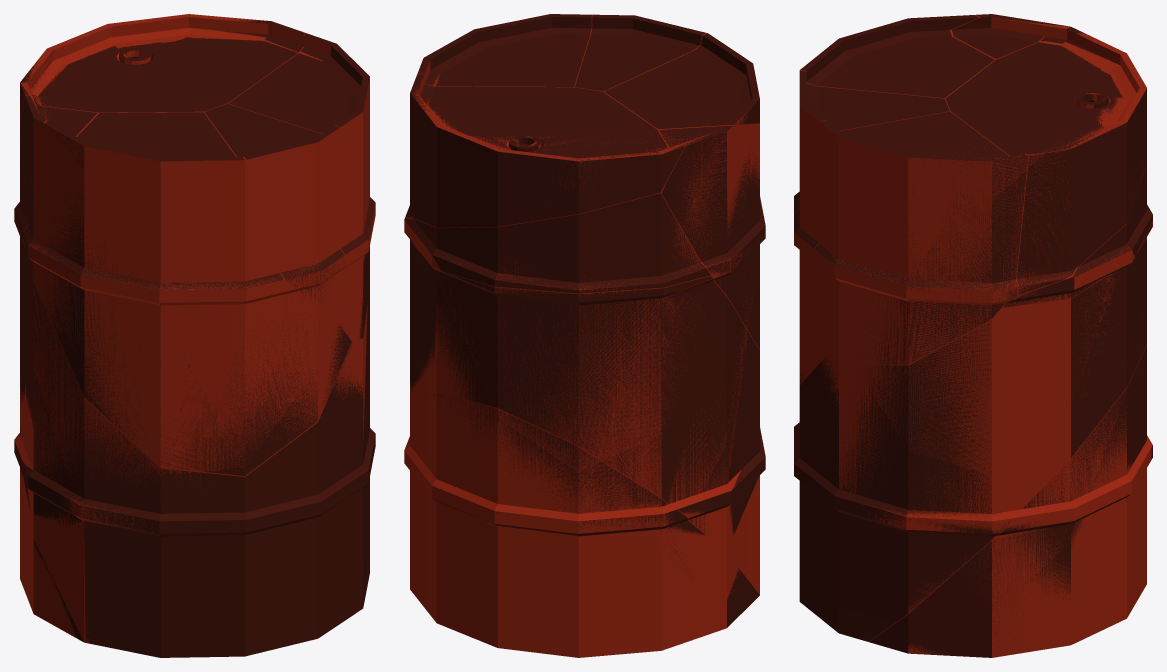
The model's file is Red Barrel.fbx.
3 views of the same model, side by side, from view 1: azimuth 30°, elevation 25°; view 2: azimuth 150°, elevation 25°; view 3: azimuth 270°, elevation 25° (orthographic).
Visible parts, largest first — view 1: Red Barrel, Red Barrel_cell 2, Red Barrel_cell 7, Red Barrel_cell 8, Red Barrel_cell 1, Red Barrel_cell 9, Red Barrel_cell 6, Red Barrel_cell 4, Red Barrel_cell 5; view 2: Red Barrel, Red Barrel_cell 2, Red Barrel_cell 8, Red Barrel_cell 5, Red Barrel_cell 7, Red Barrel_cell 4, Red Barrel_cell 1, Red Barrel_cell 9, Red Barrel_cell 6; view 3: Red Barrel, Red Barrel_cell 2, Red Barrel_cell 8, Red Barrel_cell 1, Red Barrel_cell 4, Red Barrel_cell 9, Red Barrel_cell 6, Red Barrel_cell 5, Red Barrel_cell 7.
Part boxes in pixels (left/top/right/bottom): Red Barrel: left=14, top=14, right=375, bottom=646; Red Barrel_cell 2: left=14, top=215, right=375, bottom=657; Red Barrel_cell 7: left=20, top=95, right=351, bottom=475; Red Barrel_cell 8: left=20, top=20, right=305, bottom=117; Red Barrel_cell 1: left=228, top=33, right=375, bottom=338; Red Barrel_cell 9: left=44, top=112, right=244, bottom=168; Red Barrel_cell 6: left=205, top=104, right=344, bottom=304; Red Barrel_cell 4: left=14, top=428, right=369, bottom=642; Red Barrel_cell 5: left=14, top=125, right=27, bottom=241; Red Barrel: left=404, top=14, right=764, bottom=657; Red Barrel_cell 2: left=410, top=243, right=765, bottom=536; Red Barrel_cell 8: left=406, top=74, right=684, bottom=227; Red Barrel_cell 5: left=404, top=193, right=710, bottom=293; Red Barrel_cell 7: left=659, top=125, right=765, bottom=349; Red Barrel_cell 4: left=432, top=393, right=759, bottom=627; Red Barrel_cell 1: left=417, top=14, right=592, bottom=145; Red Barrel_cell 9: left=604, top=33, right=759, bottom=129; Red Barrel_cell 6: left=575, top=14, right=705, bottom=91; Red Barrel: left=794, top=15, right=1152, bottom=657; Red Barrel_cell 2: left=794, top=224, right=1152, bottom=641; Red Barrel_cell 8: left=945, top=22, right=1146, bottom=294; Red Barrel_cell 1: left=814, top=111, right=1028, bottom=364; Red Barrel_cell 4: left=869, top=346, right=1152, bottom=657; Red Barrel_cell 9: left=800, top=15, right=994, bottom=98; Red Barrel_cell 6: left=794, top=71, right=949, bottom=301; Red Barrel_cell 5: left=1002, top=100, right=1152, bottom=307; Red Barrel_cell 7: left=794, top=14, right=1043, bottom=383.
Bounding box in the file's own units: 90.65 × 137 × 89.99.
